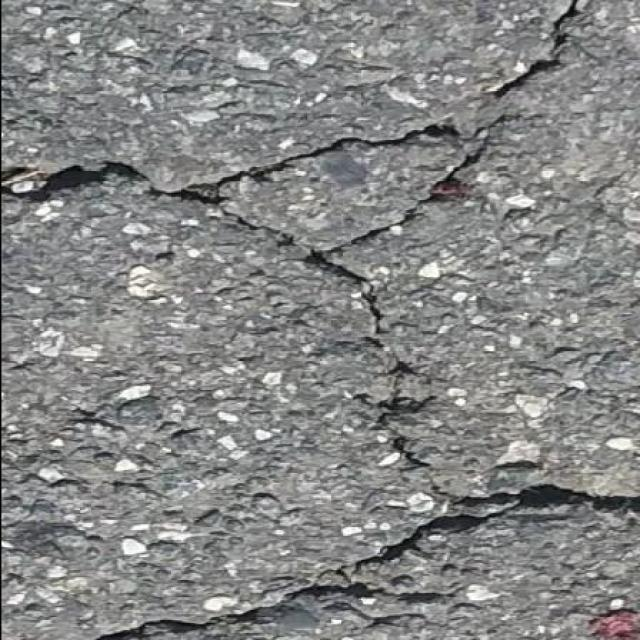Crack: (0, 0, 606, 484), (351, 489, 640, 576), (91, 585, 454, 640)
